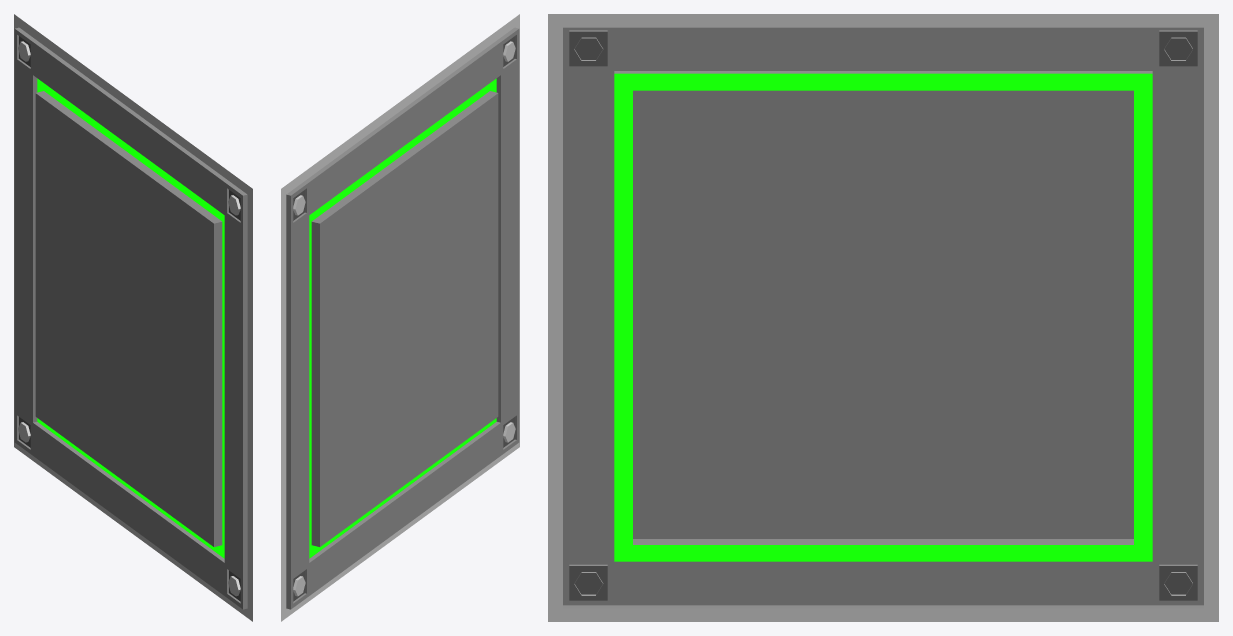
File: Wall_08.FBX
The picture shows the model from 3 angles, left to right: view 1: azimuth 30°, elevation 25°; view 2: azimuth 150°, elevation 25°; view 3: azimuth 270°, elevation 25°; orthographic projection. The views are drawn at different scales.
Parts seen in each view (by area): view 1: Wall_08_LOD0; view 2: Wall_08_LOD0; view 3: Wall_08_LOD0.
Boxes of the visible parts, bbox=[...] form: Wall_08_LOD0: bbox=[14, 14, 252, 621]; Wall_08_LOD0: bbox=[281, 14, 519, 621]; Wall_08_LOD0: bbox=[548, 14, 1218, 621].
Size of what is drawn, in the model's own units: 3.8 by 180 by 180.
